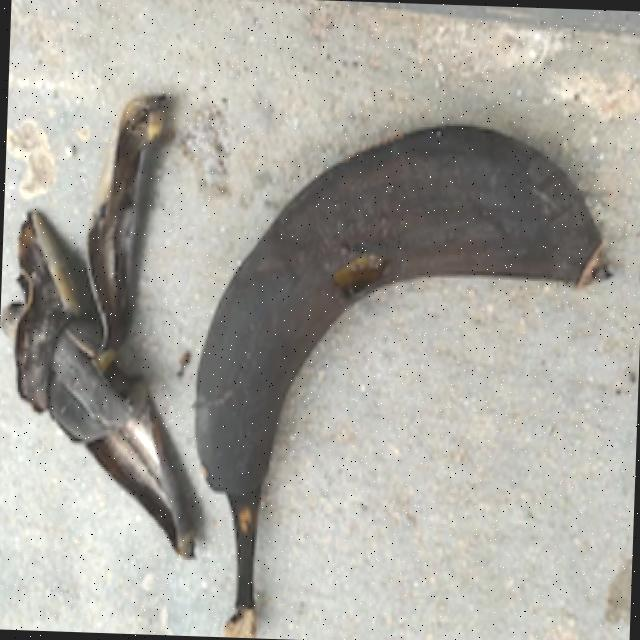Rotten: (185, 60, 637, 640)
